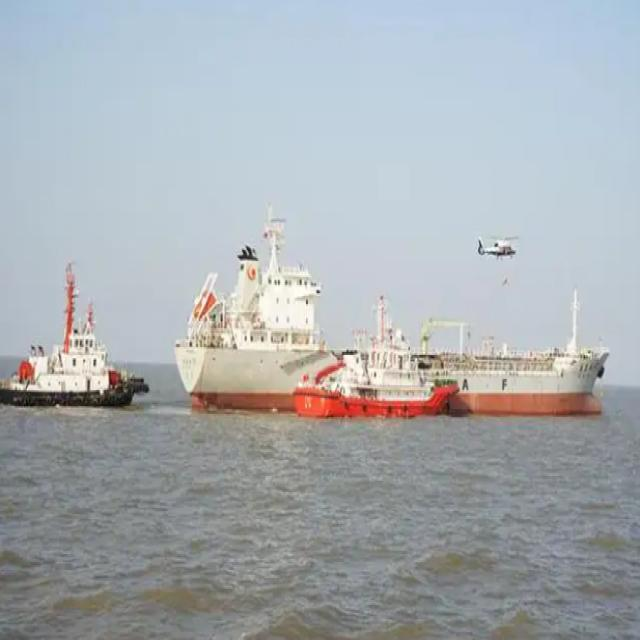navalvessels: (177, 224, 604, 435), (278, 326, 465, 416), (10, 290, 143, 412)
